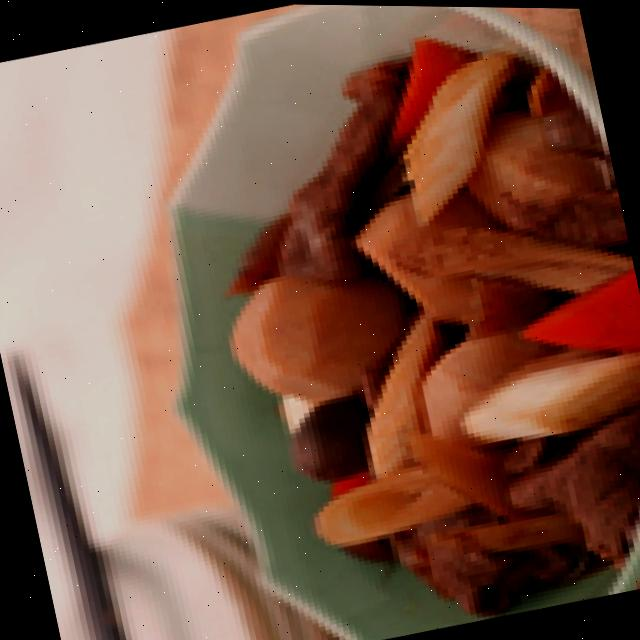鸡肉料理 含炸鸡: (94, 1, 640, 640)
